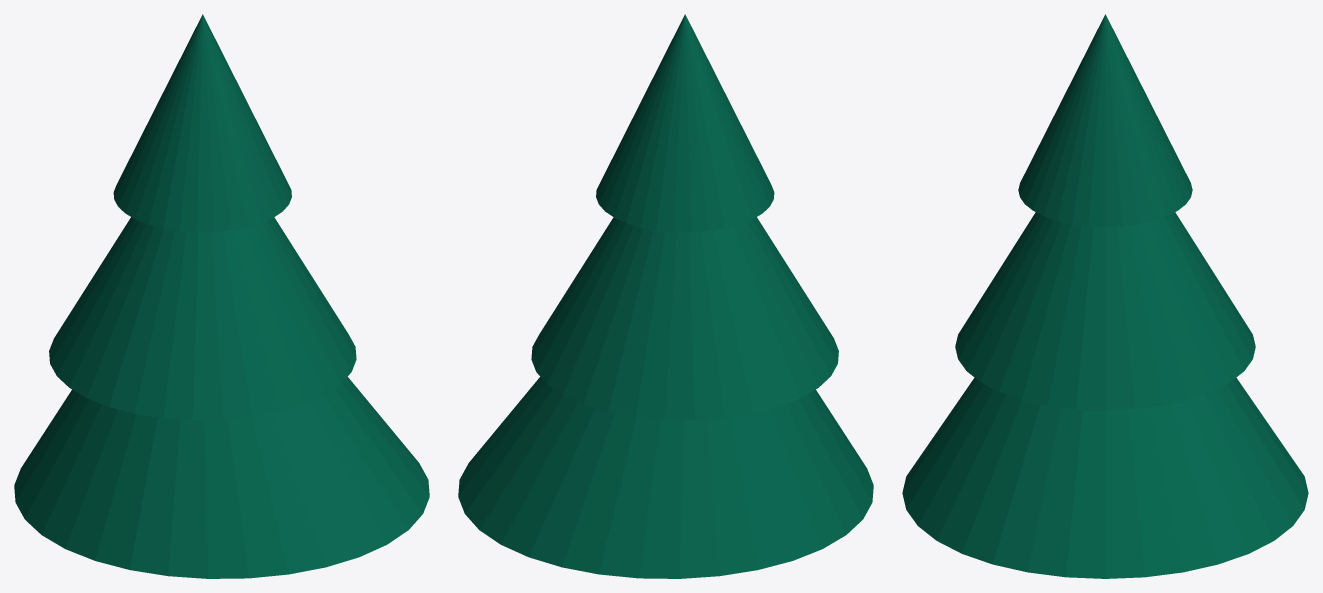
Rendered from Blue_tree.fbx.
3 renders of one model, left to right at view 1: azimuth 30°, elevation 25°; view 2: azimuth 150°, elevation 25°; view 3: azimuth 270°, elevation 25°, orthographic. The views are drawn at different scales.
Visible parts, largest first — view 1: blue; view 2: blue; view 3: blue.
Boxes of the visible parts, box(x1,y1,x2,y2) form: blue: box(14, 14, 429, 578); blue: box(458, 14, 873, 578); blue: box(902, 14, 1308, 578).
Bounding box in the file's own units: 188 × 250 × 188.
